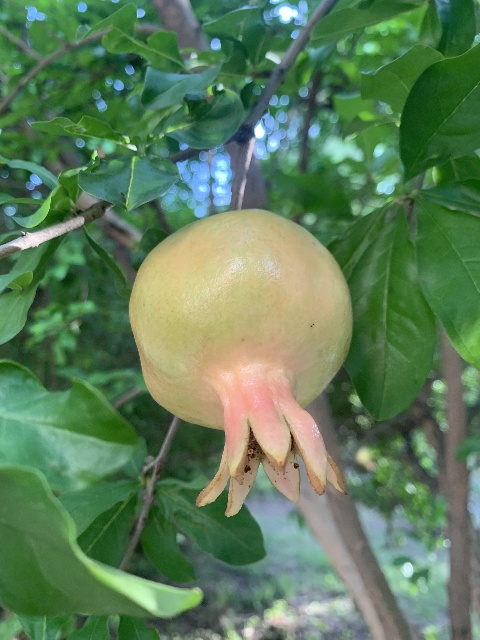mid-growth: (128, 206, 356, 516)
